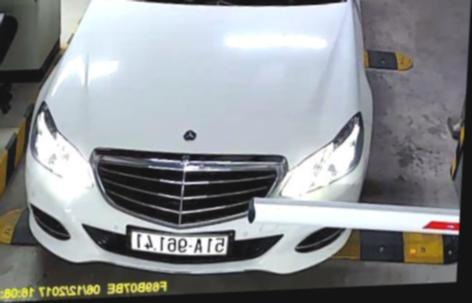License_Plate: (126, 224, 234, 264)
